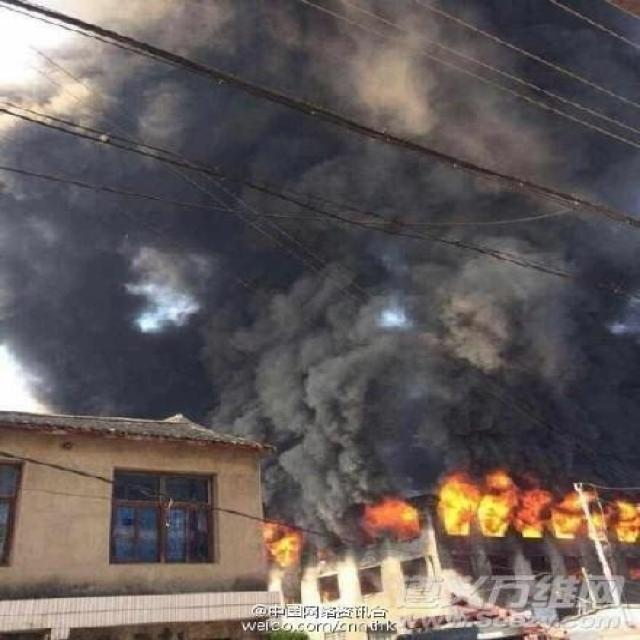Fire: (435, 472, 640, 543), (360, 494, 420, 540), (262, 519, 302, 568)
Smoke: (1, 1, 640, 560)
